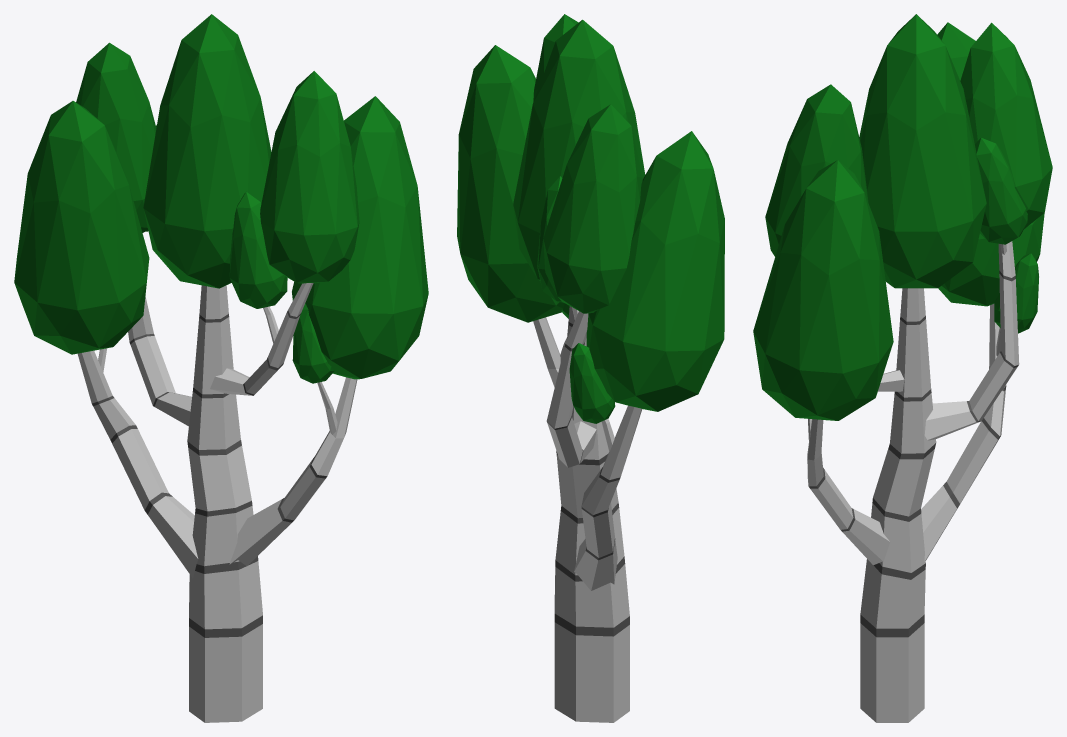
File: tree_ash.fbx
3 renders of one model, left to right at view 1: azimuth 30°, elevation 25°; view 2: azimuth 150°, elevation 25°; view 3: azimuth 270°, elevation 25°, orthographic.
Visible parts, largest first — view 1: Circle.001; view 2: Circle.001; view 3: Circle.001.
Boxes of the visible parts, box(x1,y1,x2,y2) form: Circle.001: box(14, 14, 428, 722); Circle.001: box(457, 14, 724, 722); Circle.001: box(753, 14, 1052, 722).
Bounding box in the file's own units: 527 × 1086 × 425.
